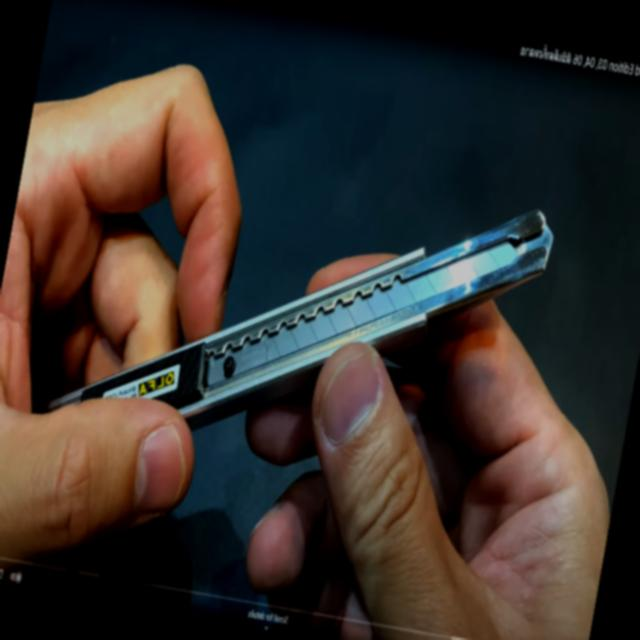cutter: (0, 21, 618, 640)
